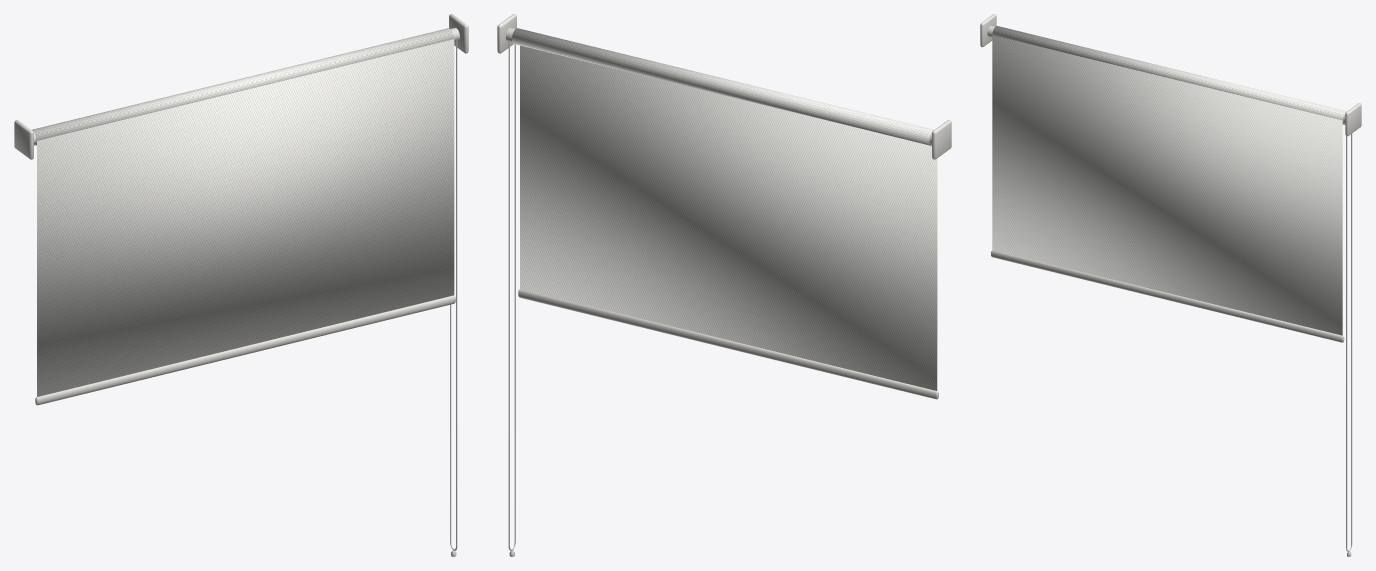
Rendered from estor_enrollable_140_c50.glb.
3 views of the same model, side by side, from view 1: azimuth 30°, elevation 25°; view 2: azimuth 150°, elevation 25°; view 3: azimuth 330°, elevation 25° (orthographic). The views are drawn at different scales.
Parts seen in each view (by area): view 1: estor_enrollable_140_c50; view 2: estor_enrollable_140_c50; view 3: estor_enrollable_140_c50.
Boxes of the visible parts, left/top/right/bottom form: estor_enrollable_140_c50: left=14, top=14, right=468, bottom=556; estor_enrollable_140_c50: left=497, top=14, right=951, bottom=556; estor_enrollable_140_c50: left=980, top=14, right=1361, bottom=556.
Size of the model in its own units: 1.2 by 1.4 by 0.08.
Materials: 4 (1 with a texture image).
